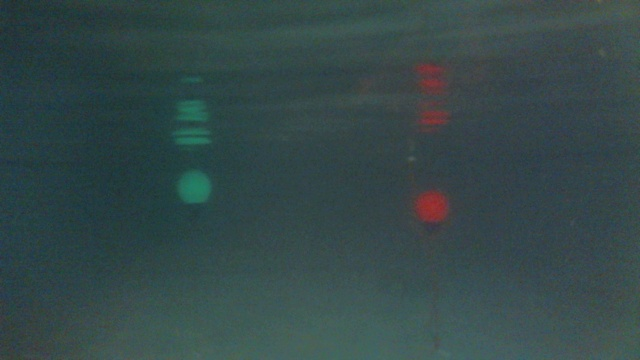buoy_green: (174, 167, 216, 222)
buoy_red: (416, 190, 446, 233)
